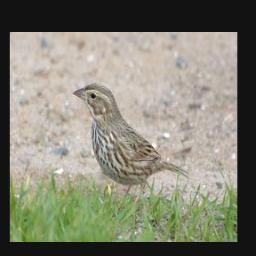Sparrow: (71, 78, 190, 223)
